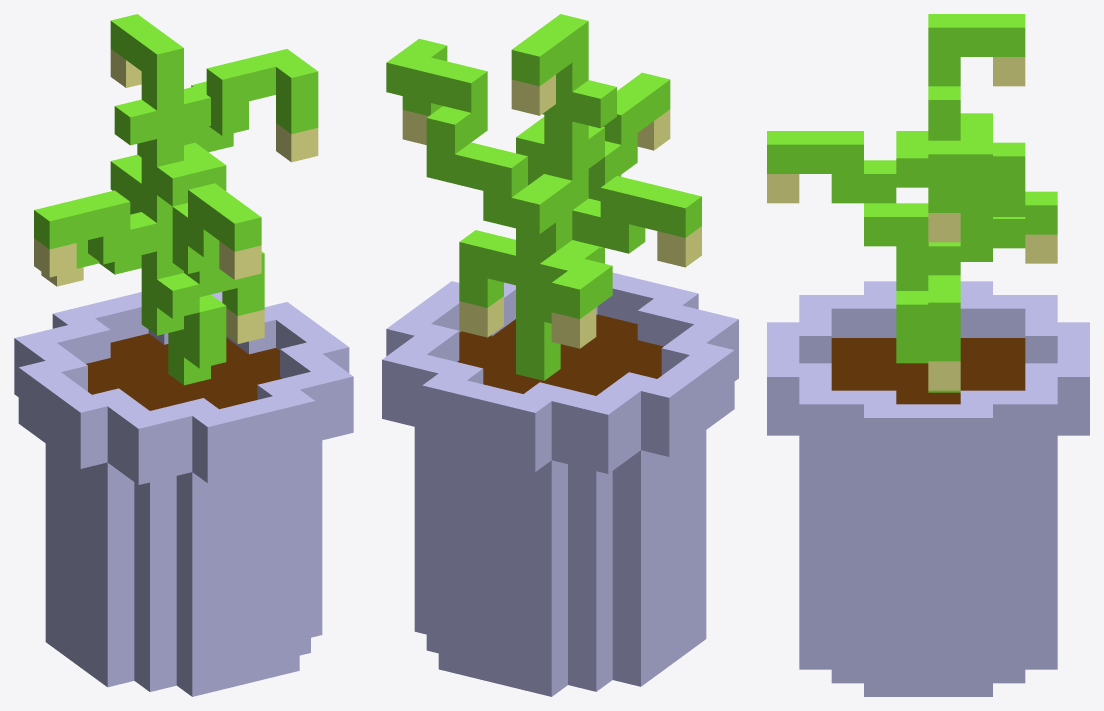
Rendered from PottedPlant3.obj.
3 views of the same model, side by side, from view 1: azimuth 30°, elevation 25°; view 2: azimuth 150°, elevation 25°; view 3: azimuth 270°, elevation 25° (orthographic). The views are drawn at different scales.
Size of the model in its own units: 1 by 2.1 by 1.
Materials: 1 (1 with a texture image).
